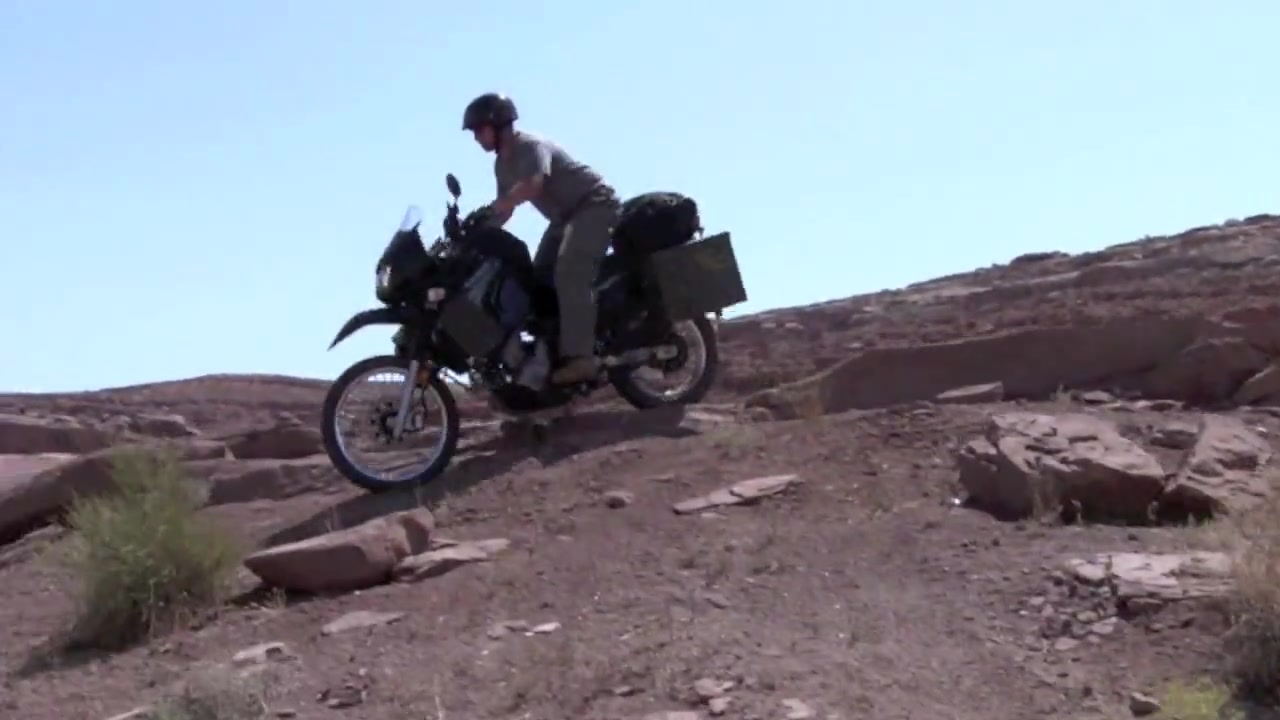motorbike: (317, 174, 723, 501)
